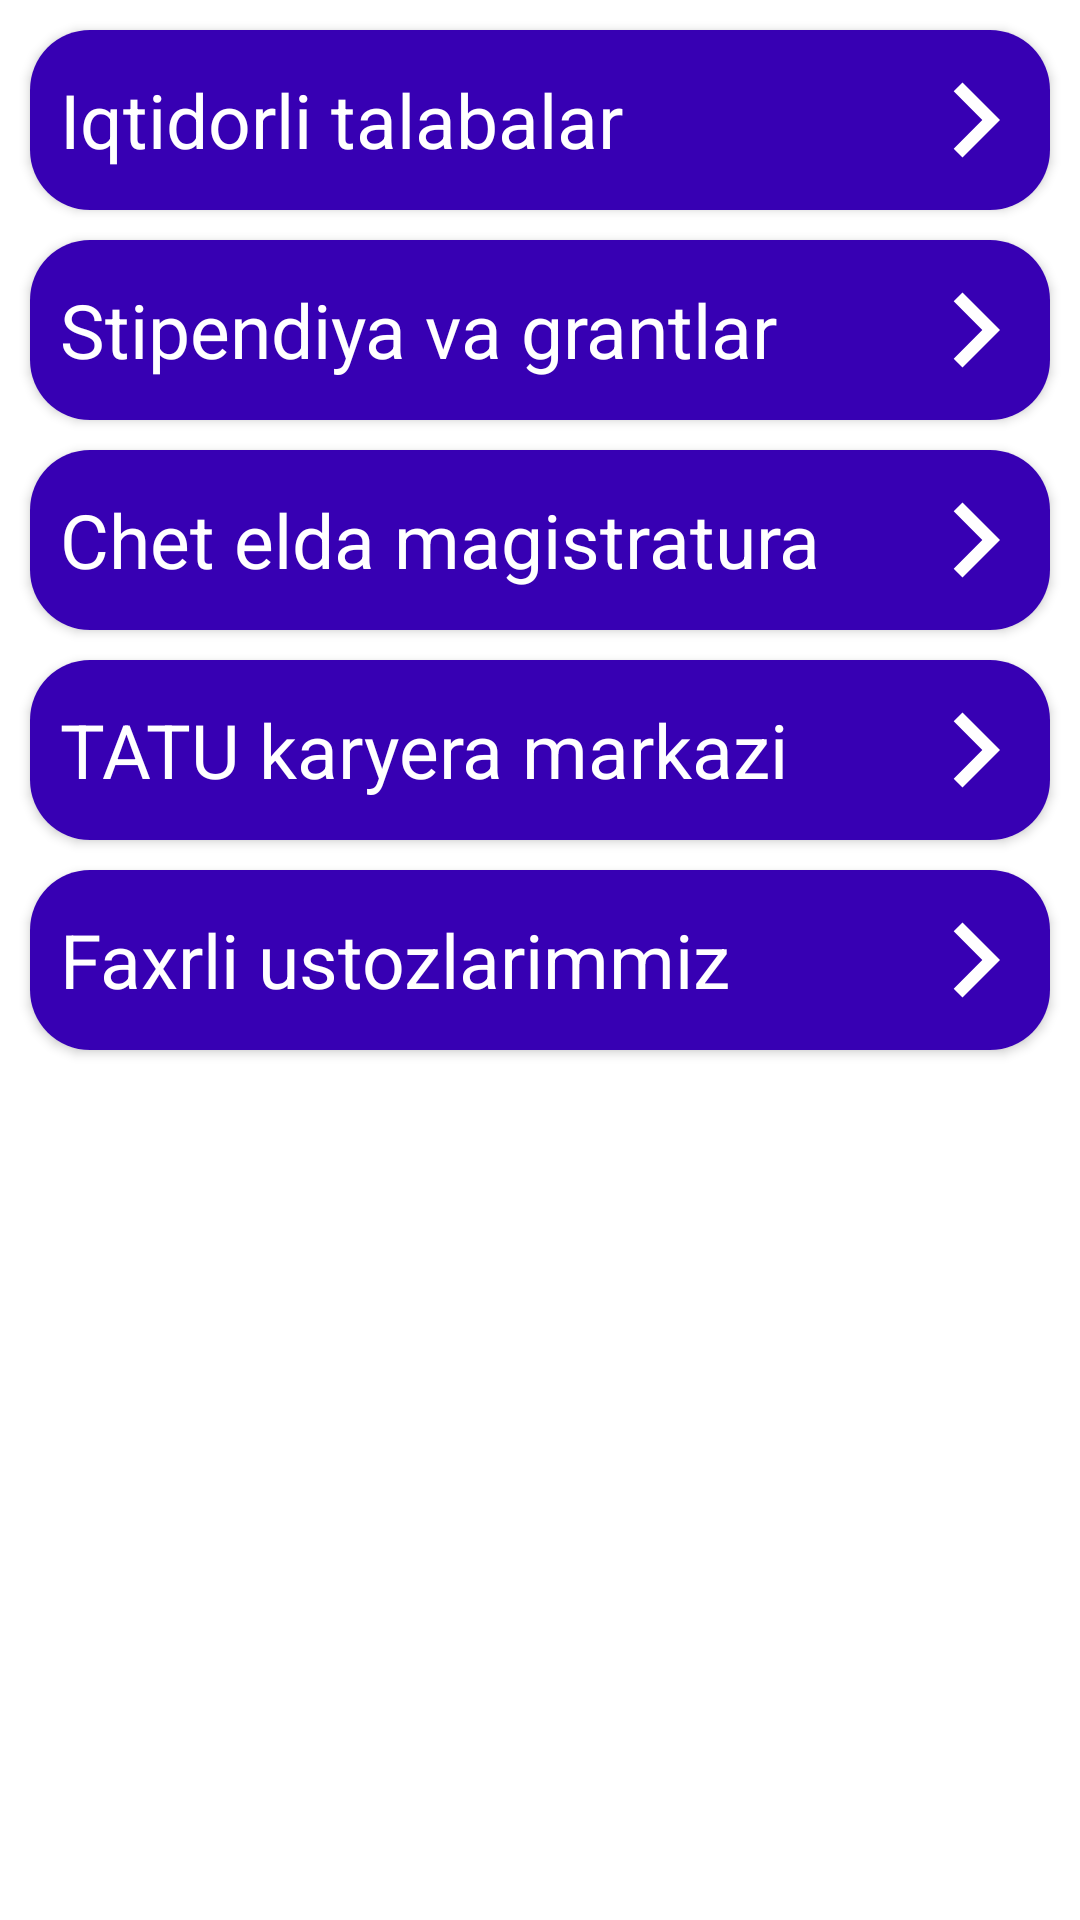

Screen size 1080*1920. Icon name, then its center in pixels as (x=x, y=y):
navigate next: (x=975, y=120), (x=975, y=330), (x=975, y=540), (x=975, y=750), (x=975, y=960)
